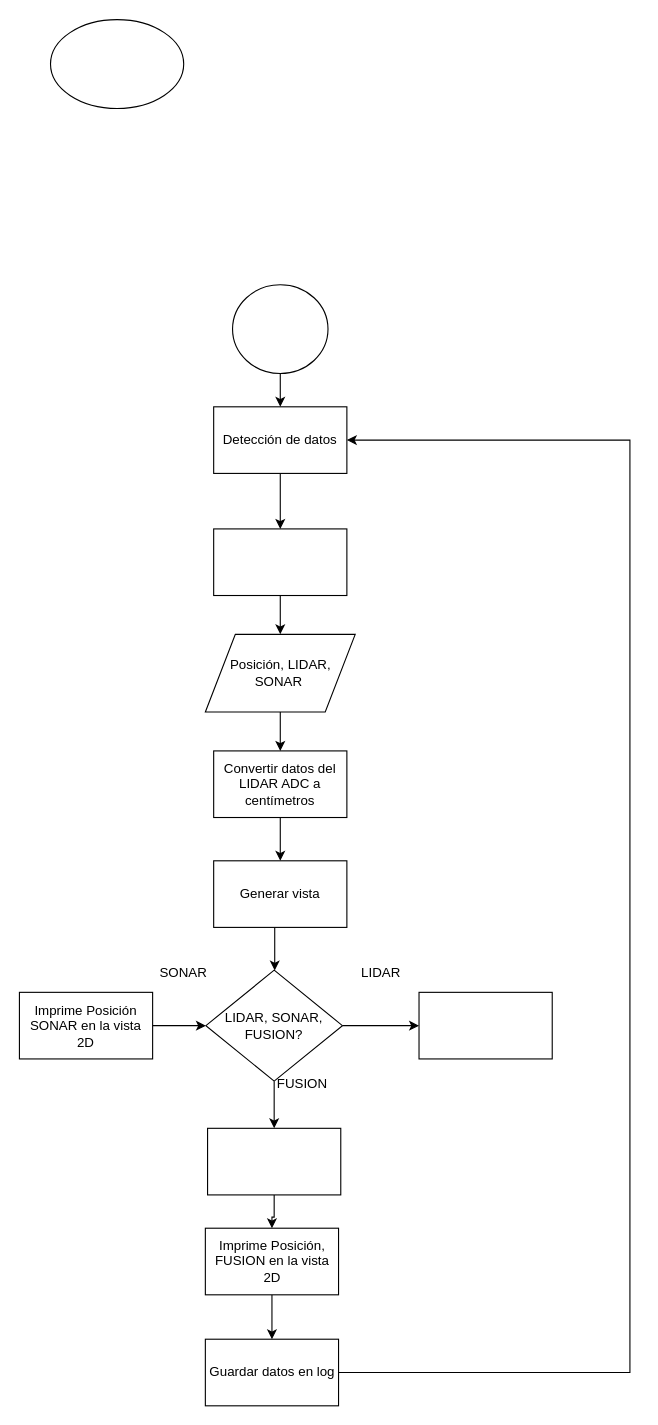
Image size: 658x1425. Some labels were removed from this diagram. Here are the shapes that lost their labels. From the top down, the box of each, then its label:
(231, 284, 328, 374): Start
(213, 528, 347, 596): Decodificar datos
(418, 991, 552, 1059): Imprime Posición LIDAR en la vista 2D
(206, 1127, 341, 1195): Resultado del proceso de competición
